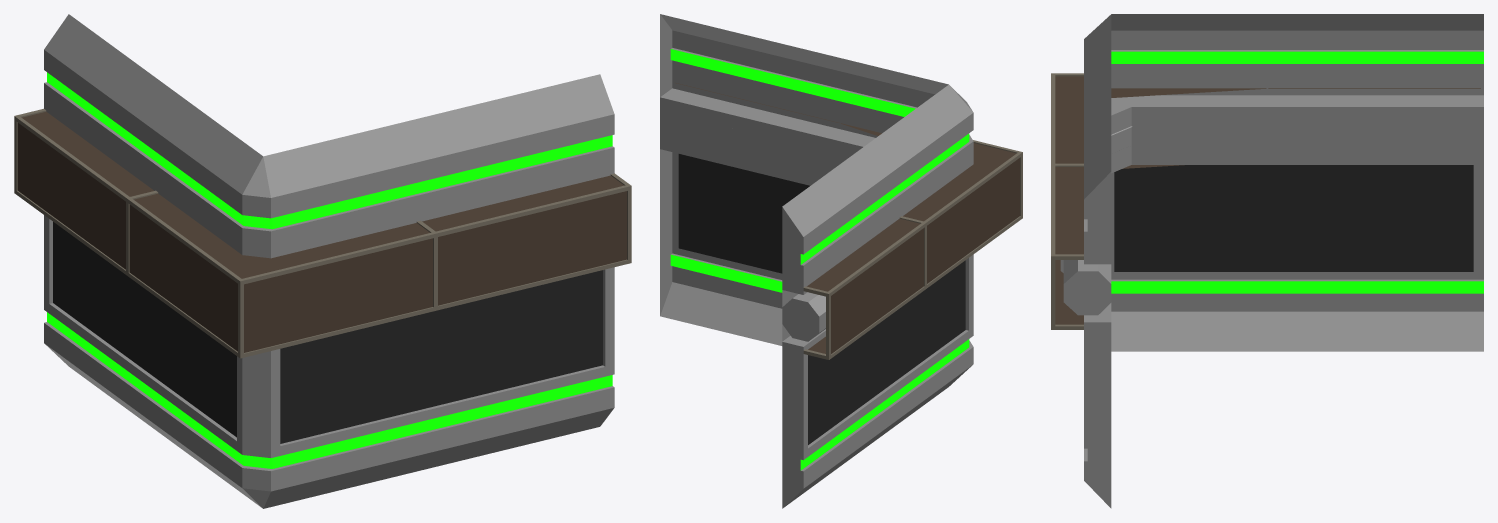
File: Wall_07_Corner.FBX
The picture shows the model from 3 angles, left to right: view 1: azimuth 30°, elevation 25°; view 2: azimuth 150°, elevation 25°; view 3: azimuth 270°, elevation 25°; orthographic projection. The views are drawn at different scales.
Visible parts, largest first — view 1: Wall_07_Corner_LOD0; view 2: Wall_07_Corner_LOD0; view 3: Wall_07_Corner_LOD0.
Part boxes in pixels (<box>): Wall_07_Corner_LOD0: <box>14,14,631,508</box>; Wall_07_Corner_LOD0: <box>660,14,1022,508</box>; Wall_07_Corner_LOD0: <box>1051,14,1483,508</box>.
Size of what is drawn, in the model's own units: 209 by 180 by 209.
